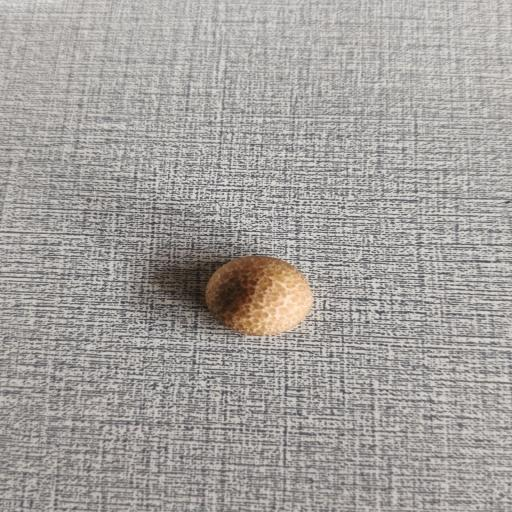Enoki Mushroom: (184, 242, 325, 353)
